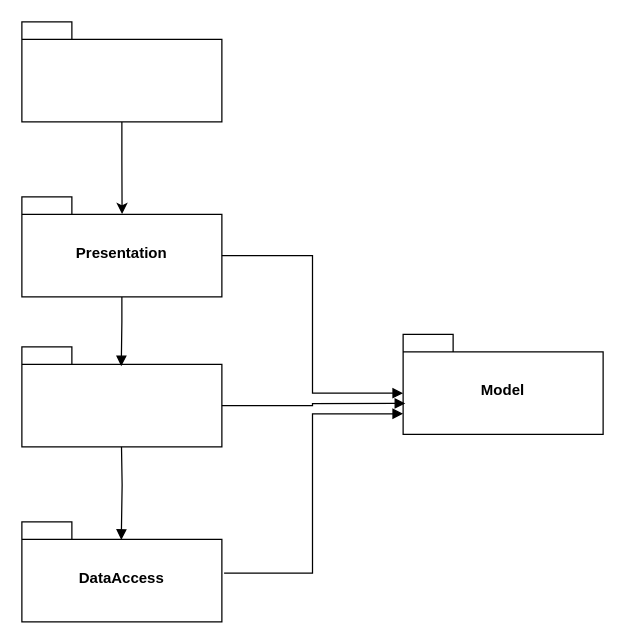
This 625x644 diagram has some shape labels left out. The shapes that lost their labels are listed below. From the top down, each one's centre as x and y in pixels, then its label:
At [121,71]: "Util".
At [121,396]: "Business".
